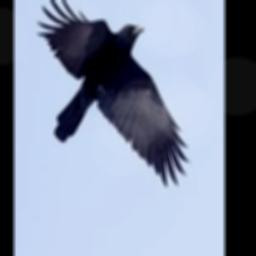Crow: (36, 0, 188, 184)
